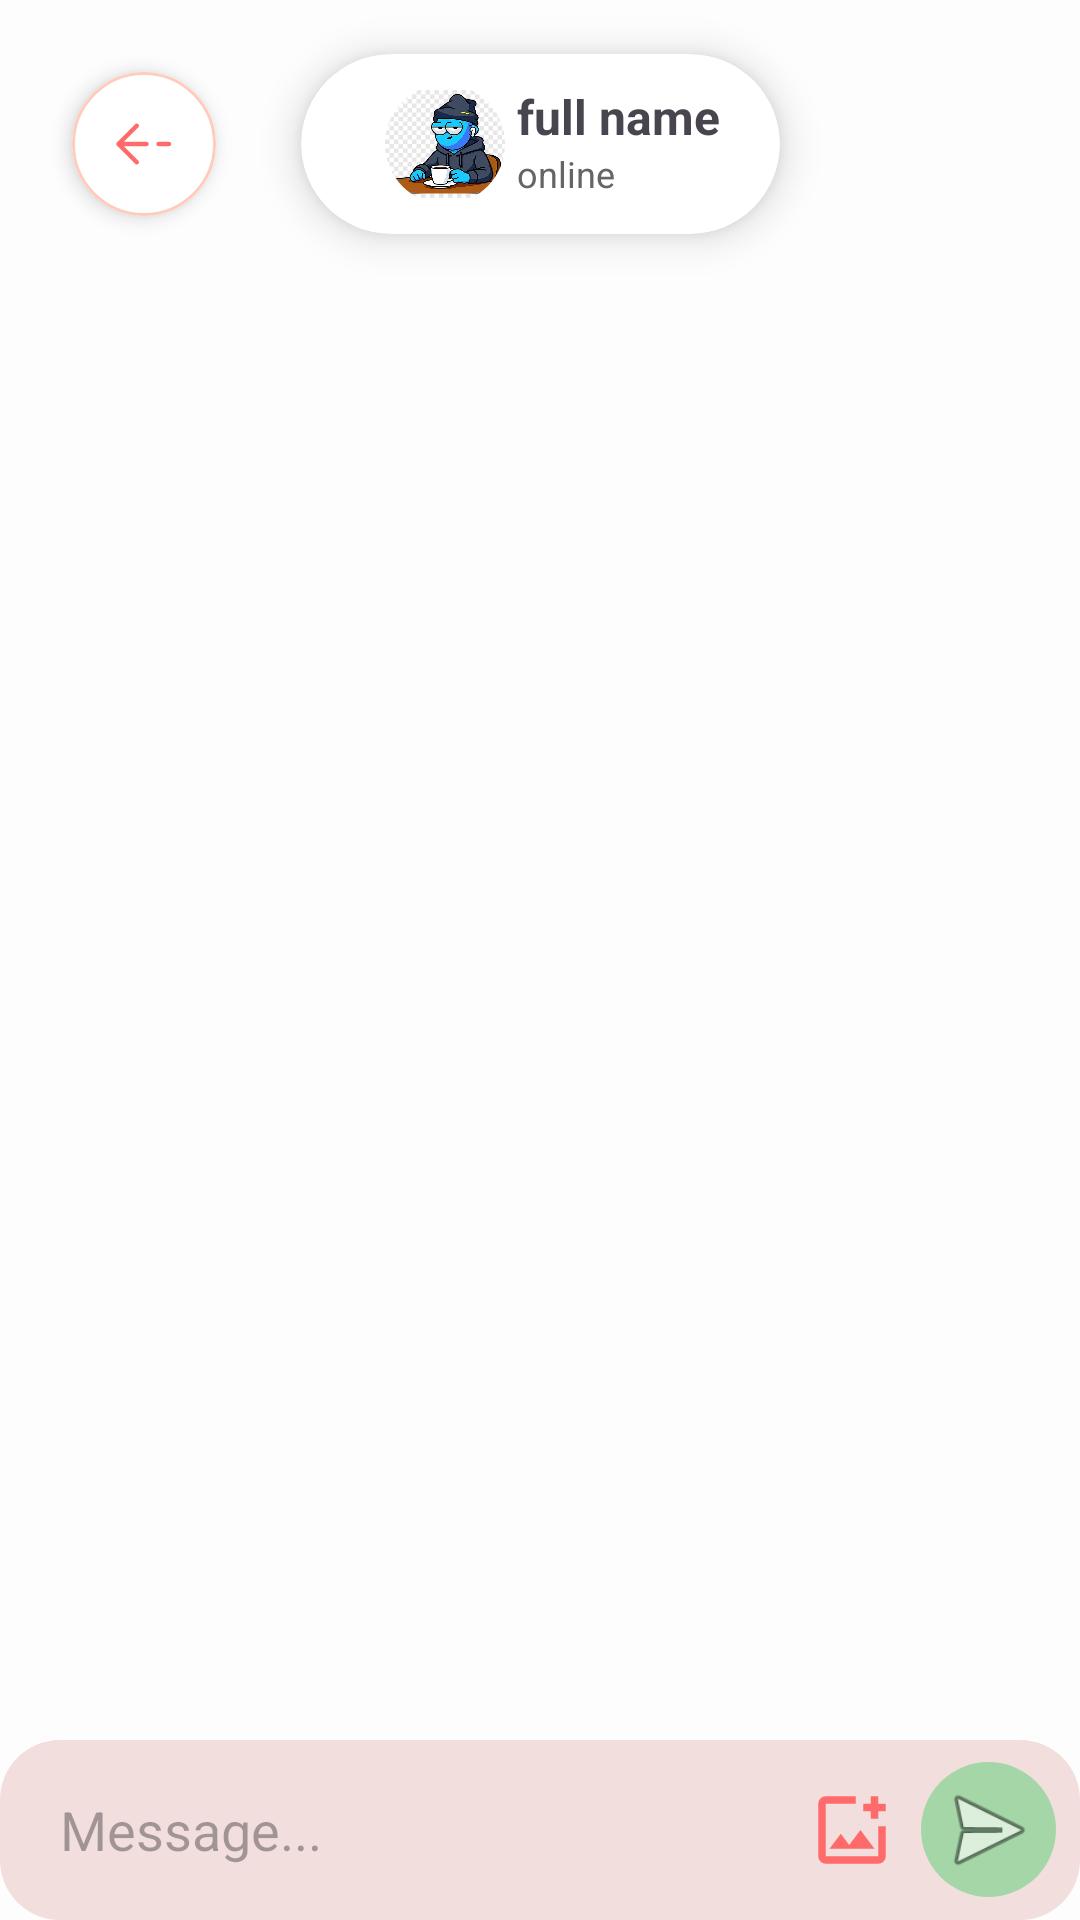

Icons on this 1080w x 1920h Android screen, each with its box as [left=x1, top=y1, right=x2, bottom=y2]:
add photo from gallery: [left=818, top=1796, right=886, bottom=1864]
back: [left=72, top=72, right=216, bottom=216]
send: [left=921, top=1762, right=1056, bottom=1897]
